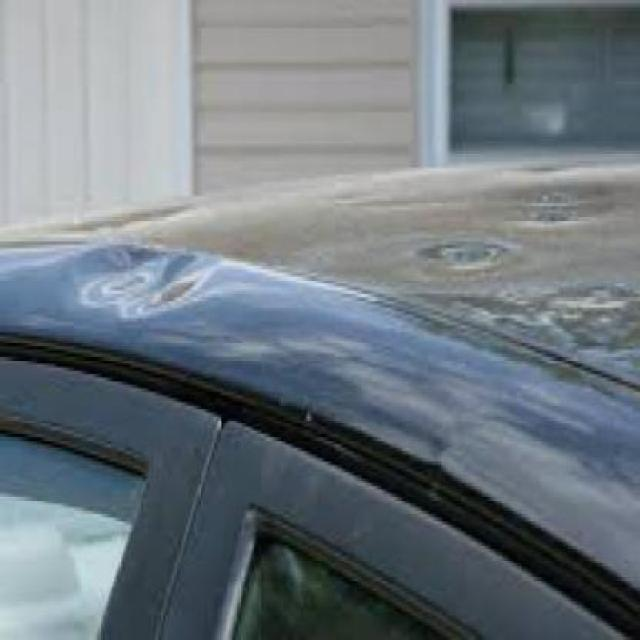roof-dent: (0, 188, 387, 462), (359, 165, 639, 539)
